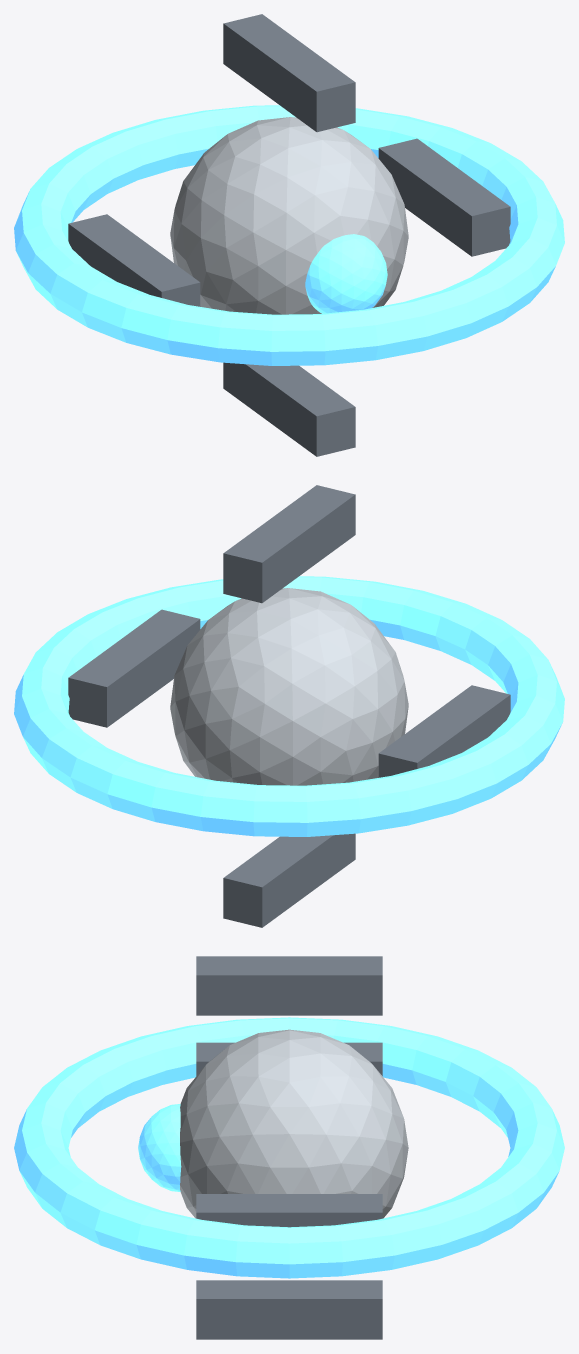
The model's file is drone_03.glb.
3 views of the same model, one above another, from view 1: azimuth 30°, elevation 25°; view 2: azimuth 150°, elevation 25°; view 3: azimuth 270°, elevation 25° (orthographic).
Visible parts, largest first — view 1: guard_ring, core, fin1, fin0, fin3, fin2, sensor; view 2: guard_ring, core, fin1, fin0, fin3, fin2; view 3: guard_ring, core, fin1, fin3, fin0, sensor, fin2.
Part boxes in pixels (x1,y1,x2,y2): guard_ring: (14, 105, 564, 365); core: (170, 117, 408, 314); fin1: (223, 14, 355, 132); fin0: (378, 138, 510, 256); fin3: (223, 362, 355, 456); fin2: (68, 214, 200, 306); sensor: (305, 234, 387, 313); guard_ring: (14, 576, 564, 836); core: (170, 588, 408, 785); fin1: (223, 485, 355, 603); fin0: (68, 609, 200, 727); fin3: (223, 833, 355, 927); fin2: (378, 685, 510, 777); guard_ring: (14, 1017, 564, 1278); core: (180, 1029, 408, 1218); fin1: (196, 956, 382, 1015); fin3: (196, 1280, 382, 1339); fin0: (196, 1194, 382, 1227); sensor: (138, 1104, 181, 1191); fin2: (196, 1042, 382, 1075).
Size of the model in its own units: 2.22 by 1.62 by 2.22.
